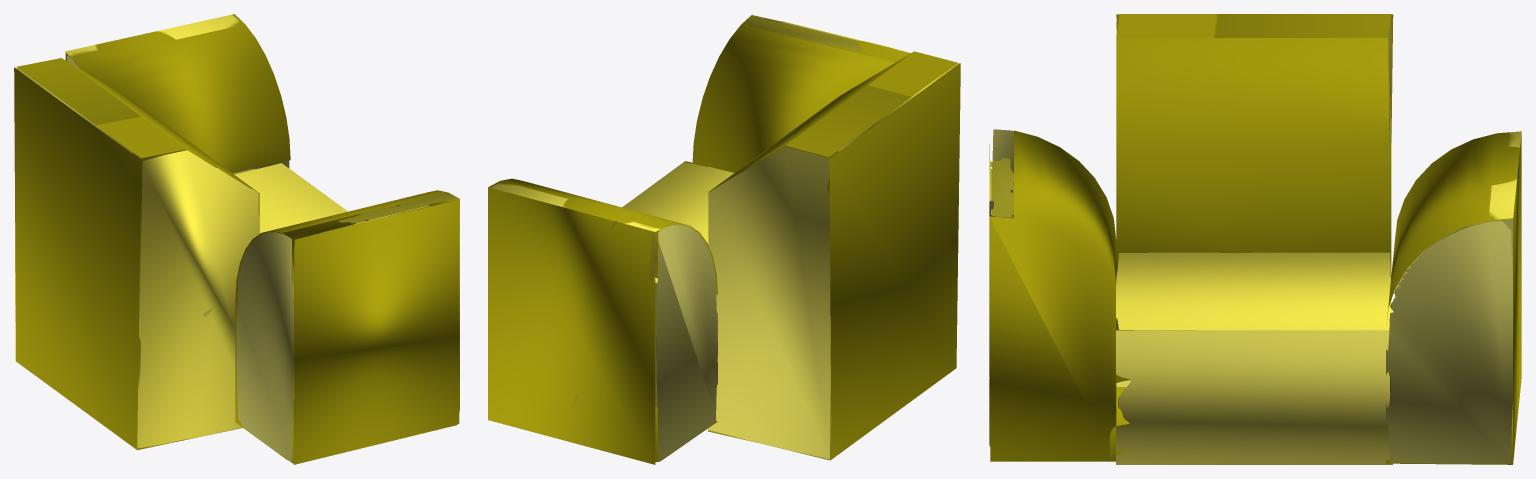
File: SofaChair.fbx
The picture shows the model from 3 angles, left to right: view 1: azimuth 30°, elevation 25°; view 2: azimuth 150°, elevation 25°; view 3: azimuth 270°, elevation 25°; orthographic projection. The views are drawn at different scales.
Parts seen in each view (by area): view 1: Cube; view 2: Cube; view 3: Cube.
Part boxes in pixels (<box>): Cube: <box>14,14,459,464</box>; Cube: <box>488,14,960,464</box>; Cube: <box>989,14,1521,464</box>.
Bounding box in the file's own units: 466 × 474 × 717.
Materials: 1 (1 with a texture image).
